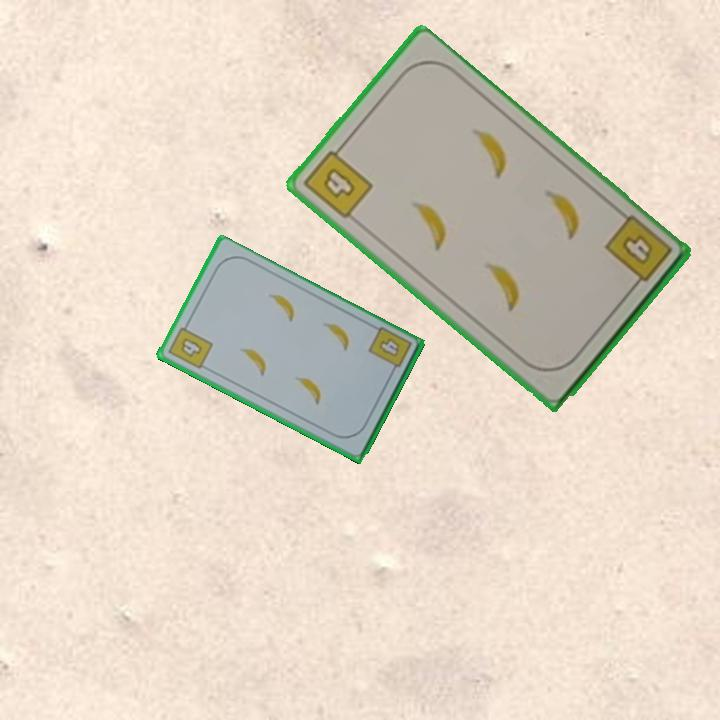4b: (299, 140, 376, 222), (600, 211, 675, 294), (165, 318, 216, 372), (365, 323, 414, 378)
